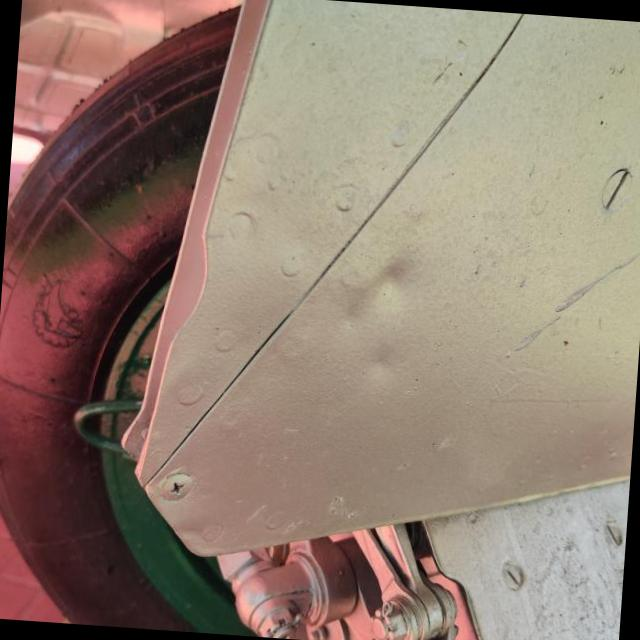Dent: (316, 218, 432, 346)
